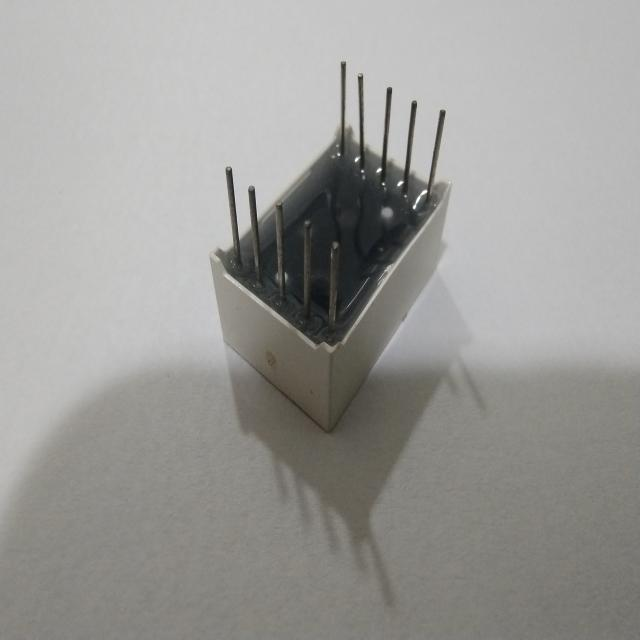7_segments: (208, 47, 455, 435)
